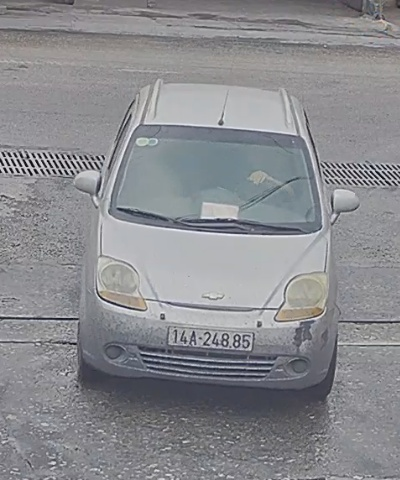vehicle plate: (163, 319, 259, 354)
